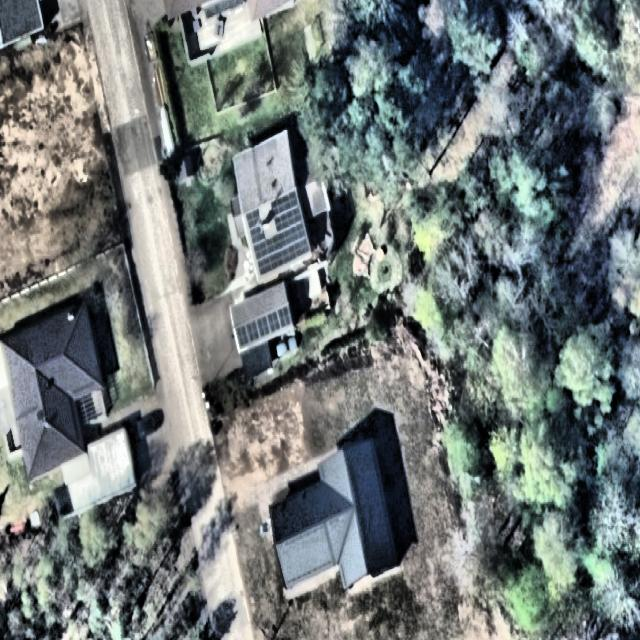roof_pv: (252, 224, 312, 276), (235, 305, 295, 351), (271, 191, 303, 234), (244, 205, 266, 245)
